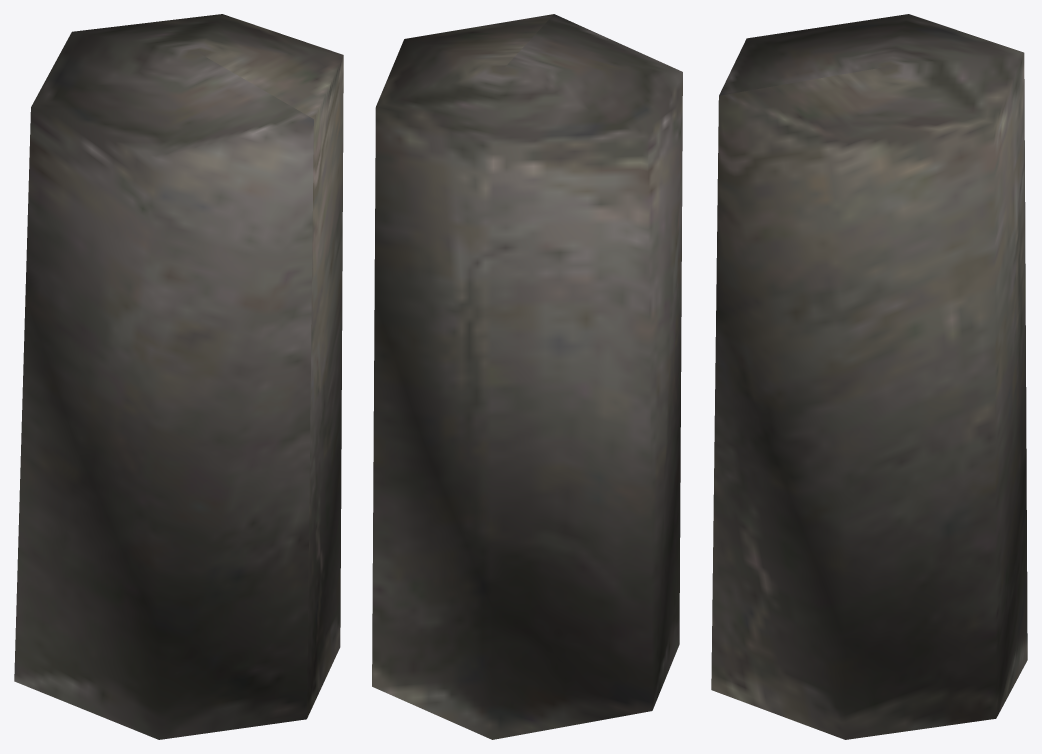
File: SC_SLstone04.FBX
The picture shows the model from 3 angles, left to right: view 1: azimuth 30°, elevation 25°; view 2: azimuth 150°, elevation 25°; view 3: azimuth 270°, elevation 25°; orthographic projection. The views are drawn at different scales.
Visible parts, largest first — view 1: SC_SLstone04; view 2: SC_SLstone04; view 3: SC_SLstone04.
Part boxes in pixels (x1=…): SC_SLstone04: x1=14, y1=14, x2=343, y2=739; SC_SLstone04: x1=372, y1=14, x2=682, y2=739; SC_SLstone04: x1=711, y1=14, x2=1027, y2=739.
Size of the model in its own units: 67.88 by 141 by 63.41.
